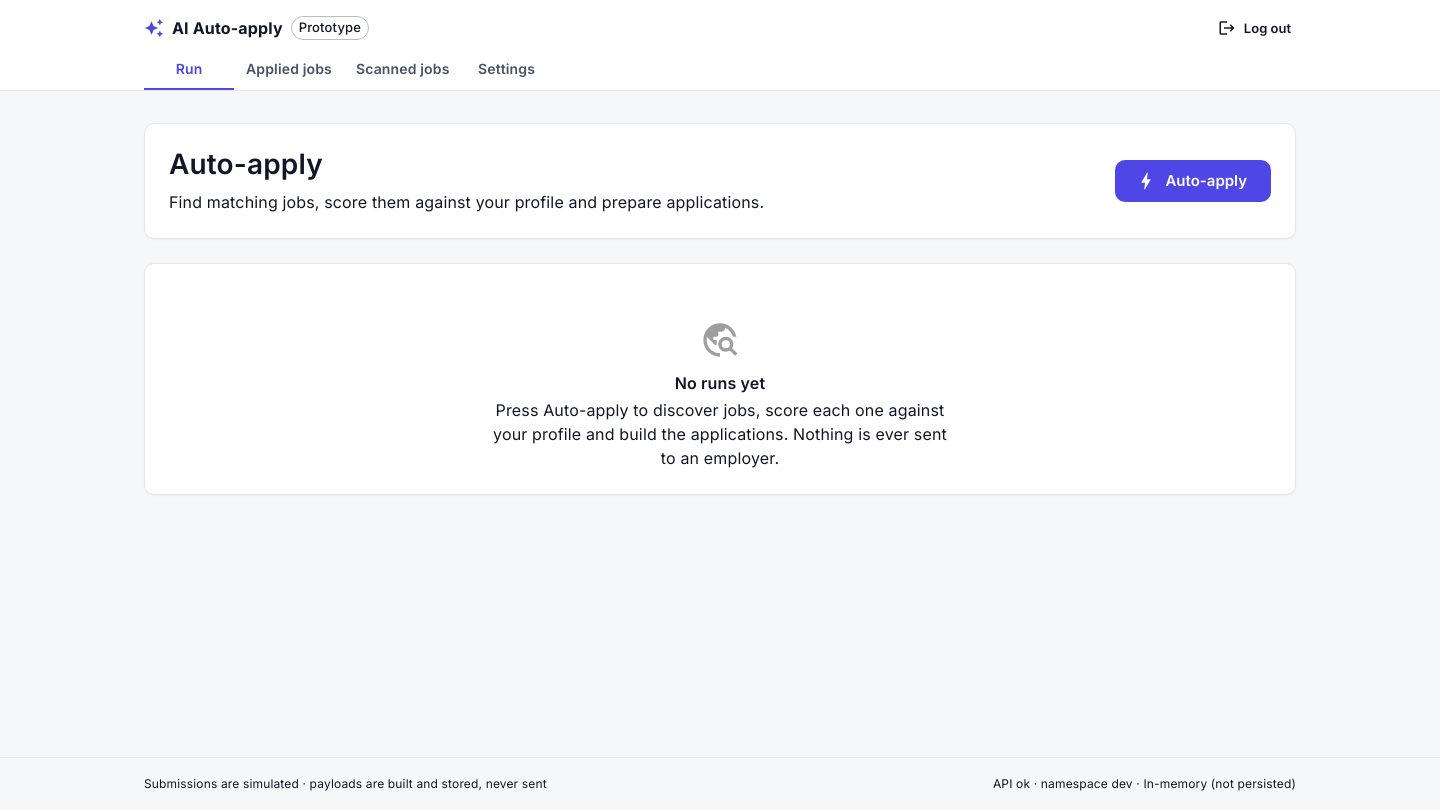
Test: login gate › logs out: clears the session on the API and shows the login page
The width and height of the screenshot is (1440, 810).
Click the button "Log out" at {"x": 1255, "y": 28}, box [1215, 13, 1296, 43]
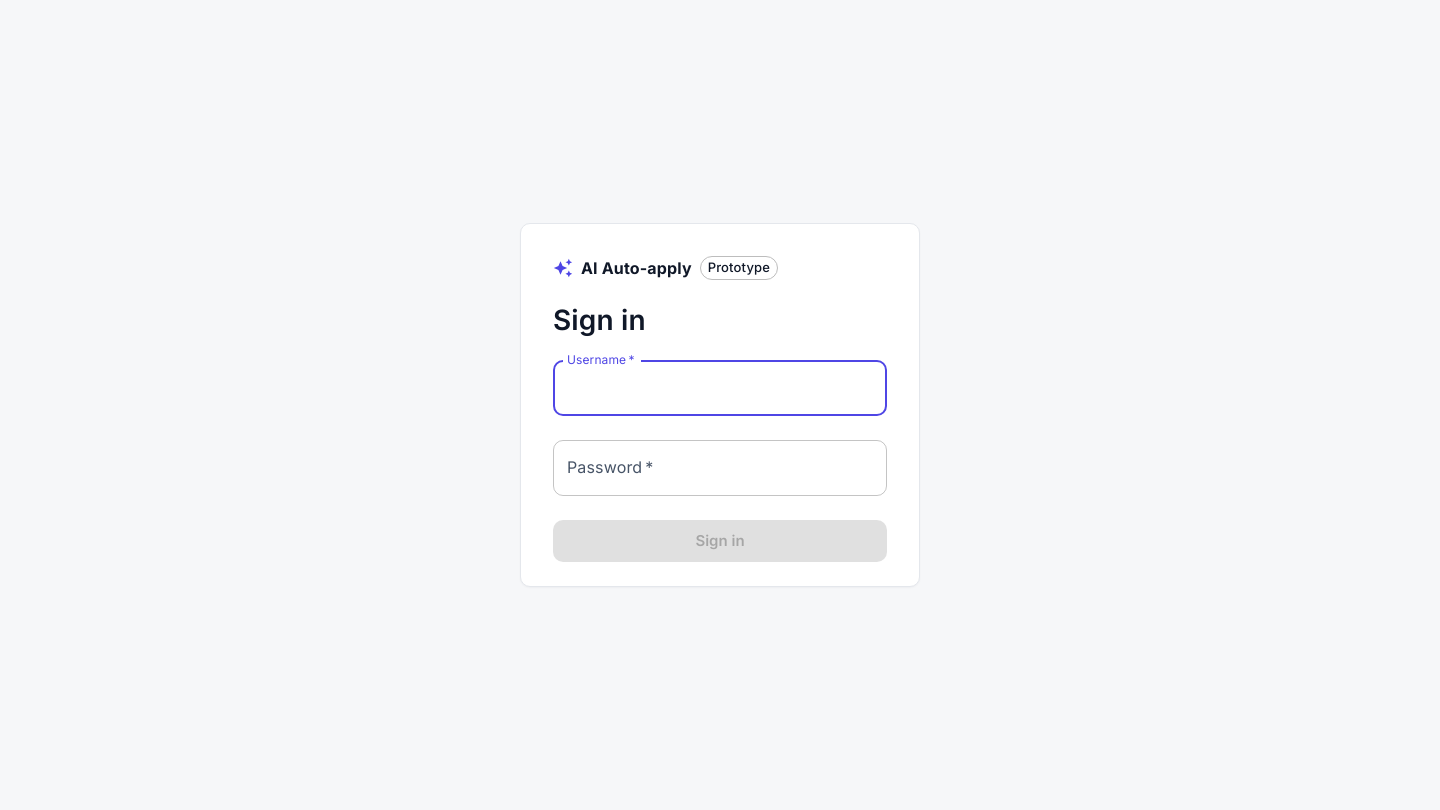
Now the heading "Sign in" is shown, box [553, 302, 646, 336]
